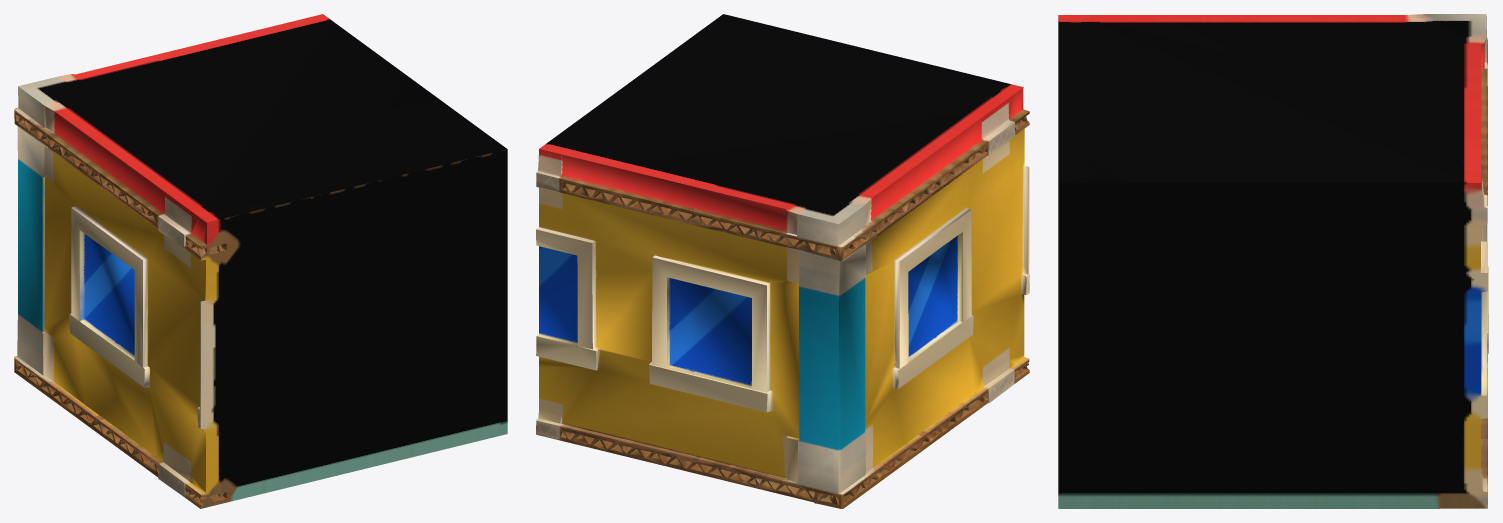
Rendered from 3-ground-floor-back-left.fbx.
3 renders of one model, left to right at view 1: azimuth 30°, elevation 25°; view 2: azimuth 150°, elevation 25°; view 3: azimuth 270°, elevation 25°, orthographic. The views are drawn at different scales.
Parts seen in each view (by area): view 1: ground-floor-back-left; view 2: ground-floor-back-left; view 3: ground-floor-back-left.
Boxes of the visible parts, x1,y1,x2,y2 form: ground-floor-back-left: [14, 14, 507, 508]; ground-floor-back-left: [536, 14, 1029, 508]; ground-floor-back-left: [1058, 14, 1488, 508].
Size of the model in its own units: 4507 by 3998 by 4762.
Materials: 1 (1 with a texture image).
